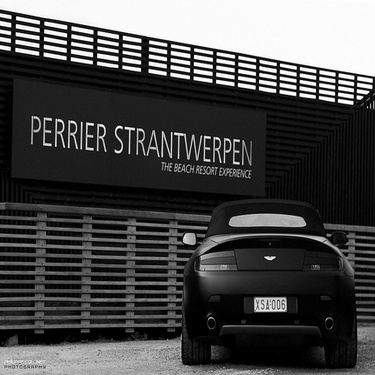car: (179, 195, 361, 366)
